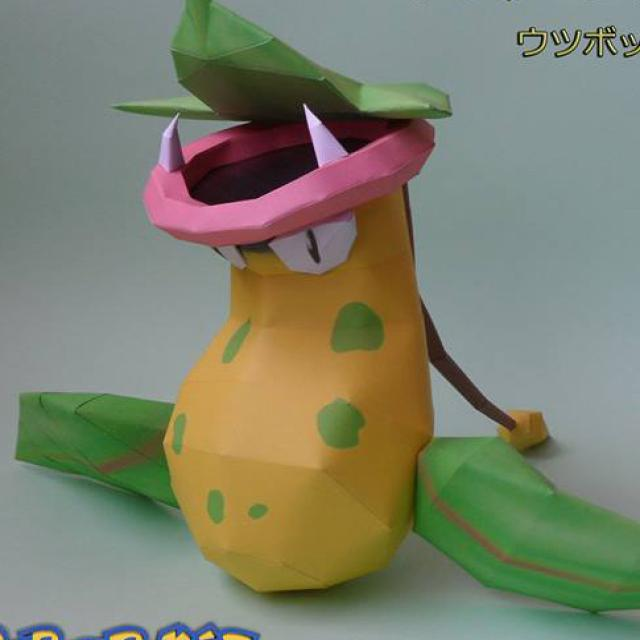Victreebel: (157, 84, 443, 590)
